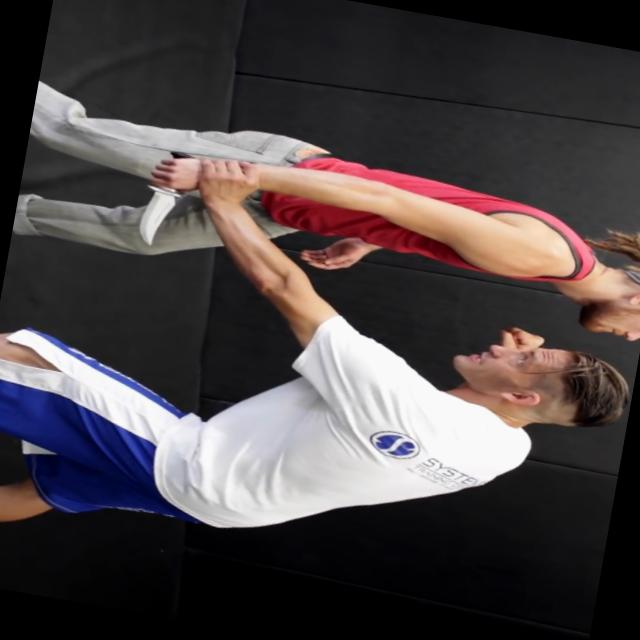knife: (126, 138, 207, 255)
